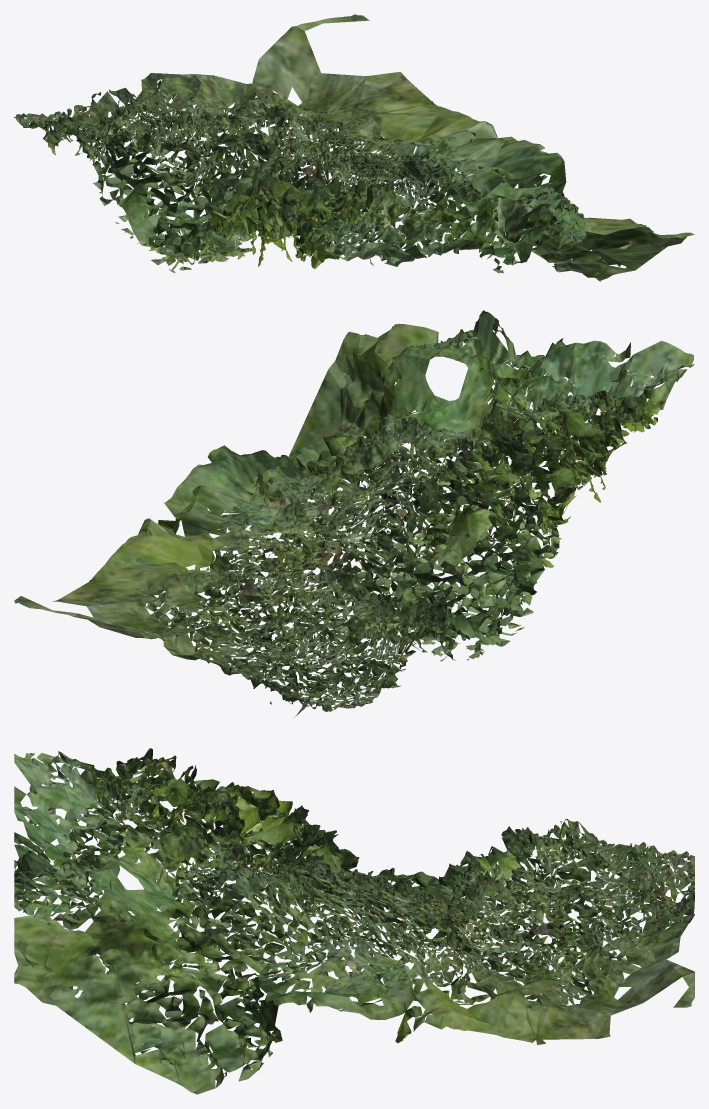
File: grass-tile-a.glb
3 renders of one model, top to bottom at view 1: azimuth 30°, elevation 25°; view 2: azimuth 150°, elevation 25°; view 3: azimuth 270°, elevation 25°, orthographic.
Parts seen in each view (by area): view 1: Tile_1; view 2: Tile_1; view 3: Tile_1.
Boxes of the visible parts, x1=… form: Tile_1: x1=14, y1=14, x2=694, y2=281; Tile_1: x1=14, y1=310, x2=694, y2=717; Tile_1: x1=14, y1=748, x2=694, y2=1094.
Size of the model in its own units: 23.12 by 11.23 by 38.56.
2 materials, 2 textured.
